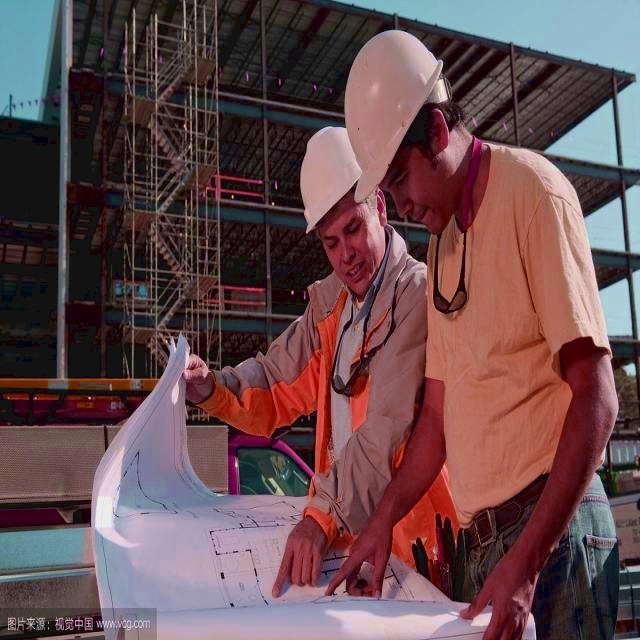Con_Casco: (345, 27, 457, 217), (299, 125, 382, 286)
